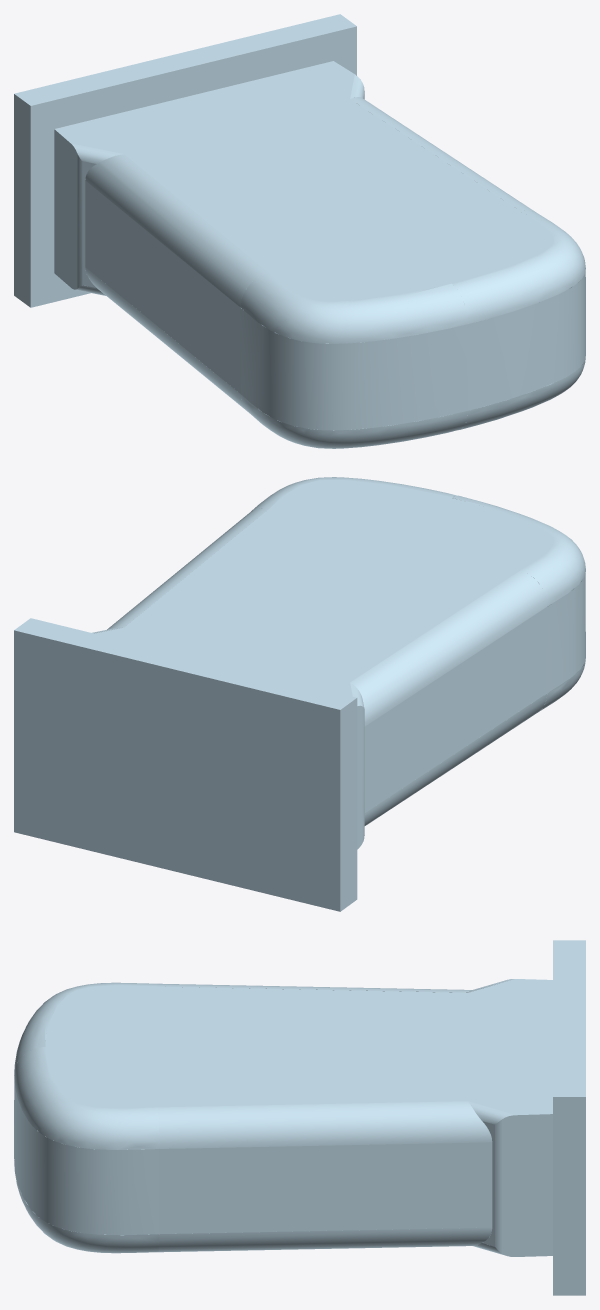
The picture shows the model from 3 angles, top to bottom: view 1: azimuth 30°, elevation 25°; view 2: azimuth 150°, elevation 25°; view 3: azimuth 270°, elevation 25°; orthographic projection.
Visible parts, largest first — view 1: PA-80-F_LOD0; view 2: PA-80-F_LOD0; view 3: PA-80-F_LOD0.
Part boxes in pixels (x1=…): PA-80-F_LOD0: x1=14, y1=14, x2=585, y2=448; PA-80-F_LOD0: x1=14, y1=477, x2=585, y2=911; PA-80-F_LOD0: x1=14, y1=940, x2=585, y2=1295.
Size of what is drawn, in the model's own units: 60.17 by 35.56 by 92.79.
